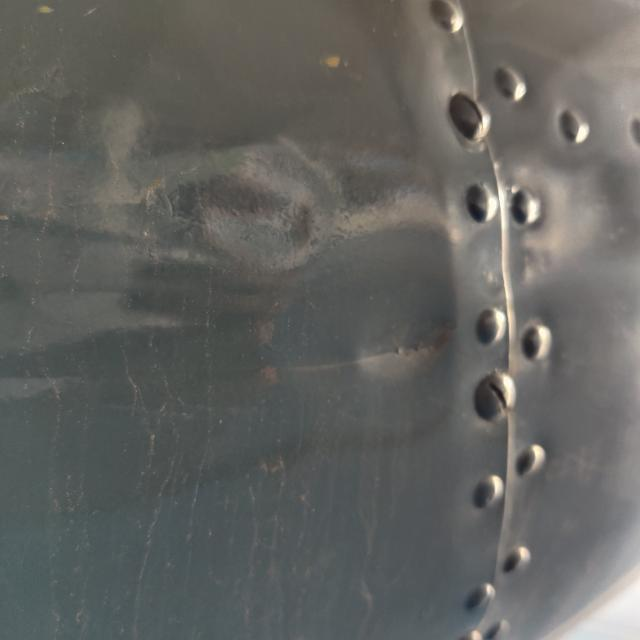dent: (148, 156, 326, 301), (344, 301, 465, 399)
